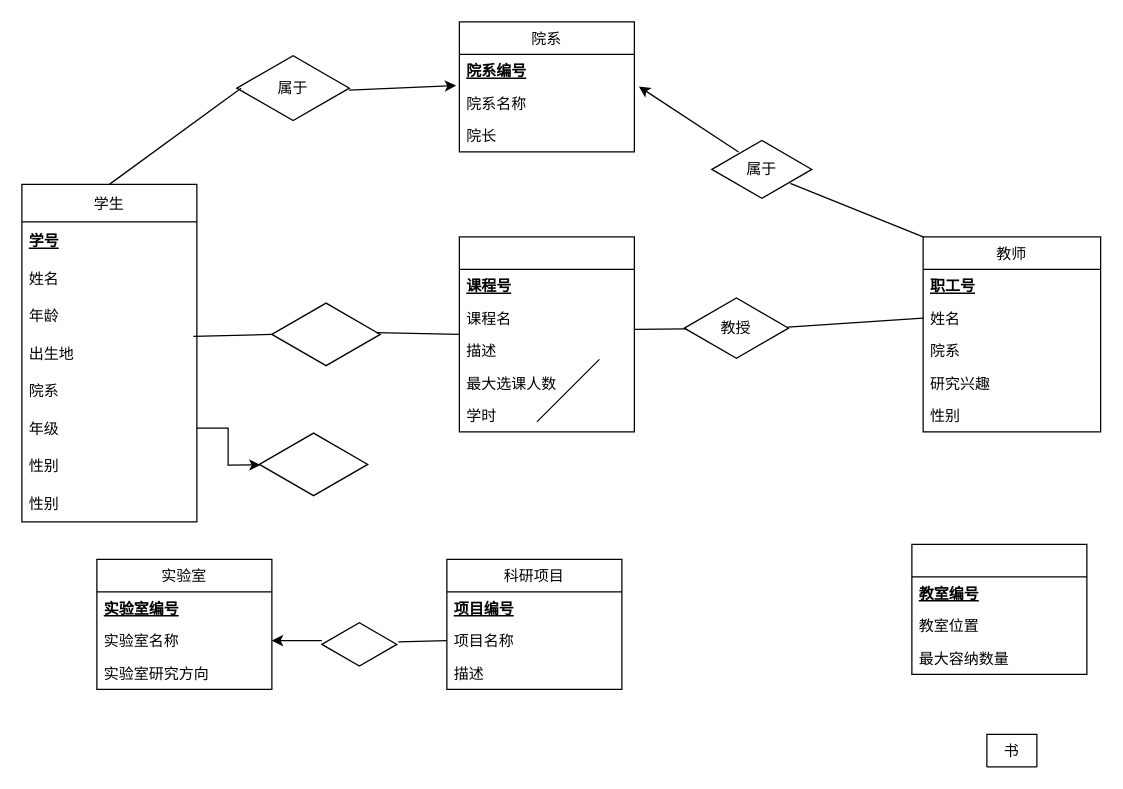
Some shapes in this 1123 by 789 pixel diagram are drawn without their labels. Here are the shapes that lost their labels. From the top down, the box of each, then its label:
(271, 301, 380, 367): 选修
(458, 236, 634, 432): 课程
(258, 431, 368, 497): 参与
(911, 543, 1087, 674): 教室
(321, 621, 397, 667): 隶属于
